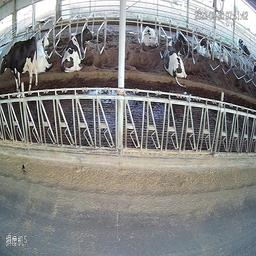cow: (1, 35, 38, 90), (61, 25, 95, 73), (162, 39, 188, 79), (34, 32, 54, 79), (235, 35, 250, 68), (140, 23, 159, 48), (194, 34, 211, 60), (175, 32, 190, 55), (211, 40, 224, 62)
